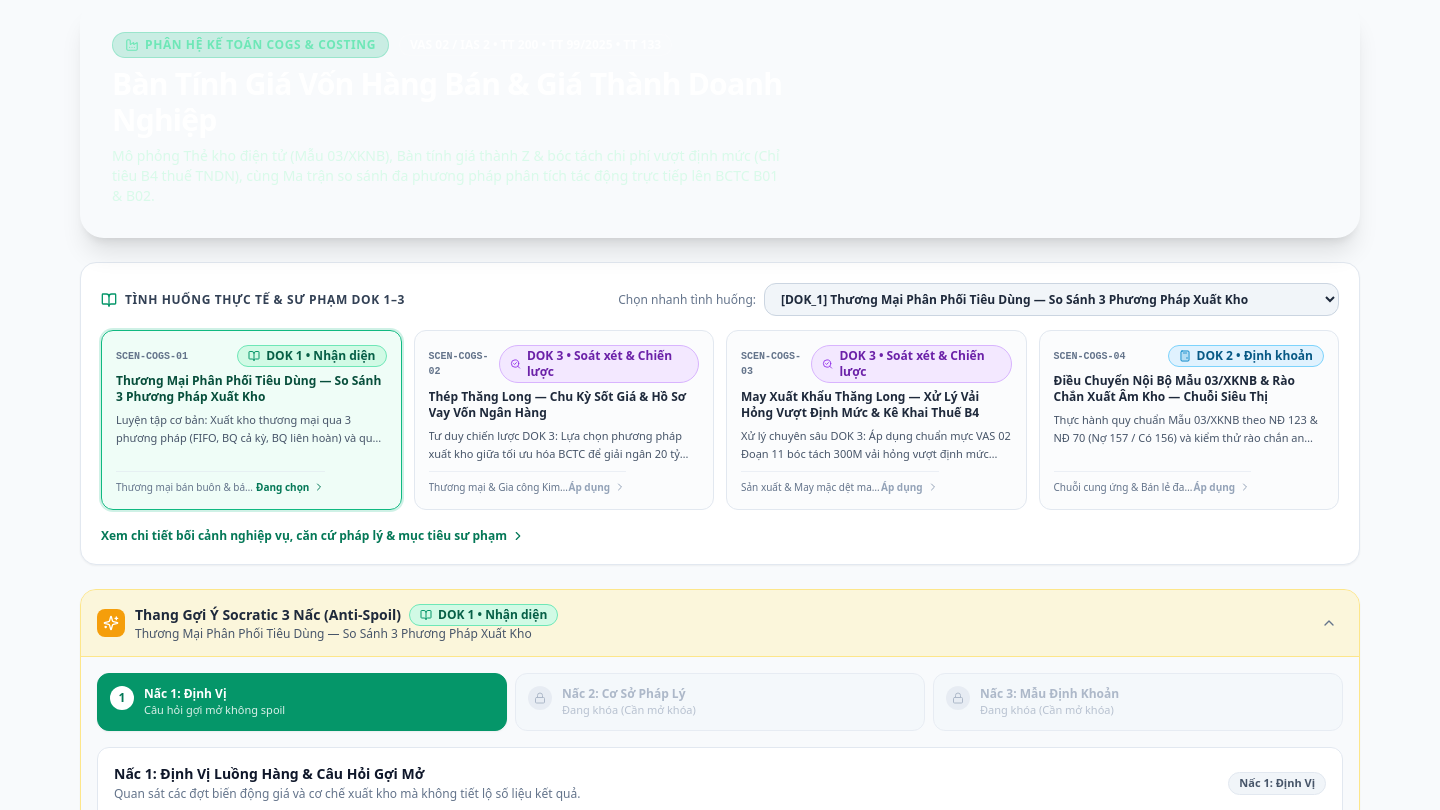
Test: COGS & Cost Accounting Workbench Container & Shell Integration (CogsWorkbench.tsx) › T5.4: Loads DOK 3 Scenario "May Xuất Khẩu Thăng Long" with abnormal waste and CIT B4 calculation
Note: Select Scenario 3 (May Xuất Khẩu Thăng Long DOK 3)
Click the button with test id "scenario-select-btn-scen-cogs-03": x=876, y=420 [726, 330, 1026, 510]
(page scrolled)
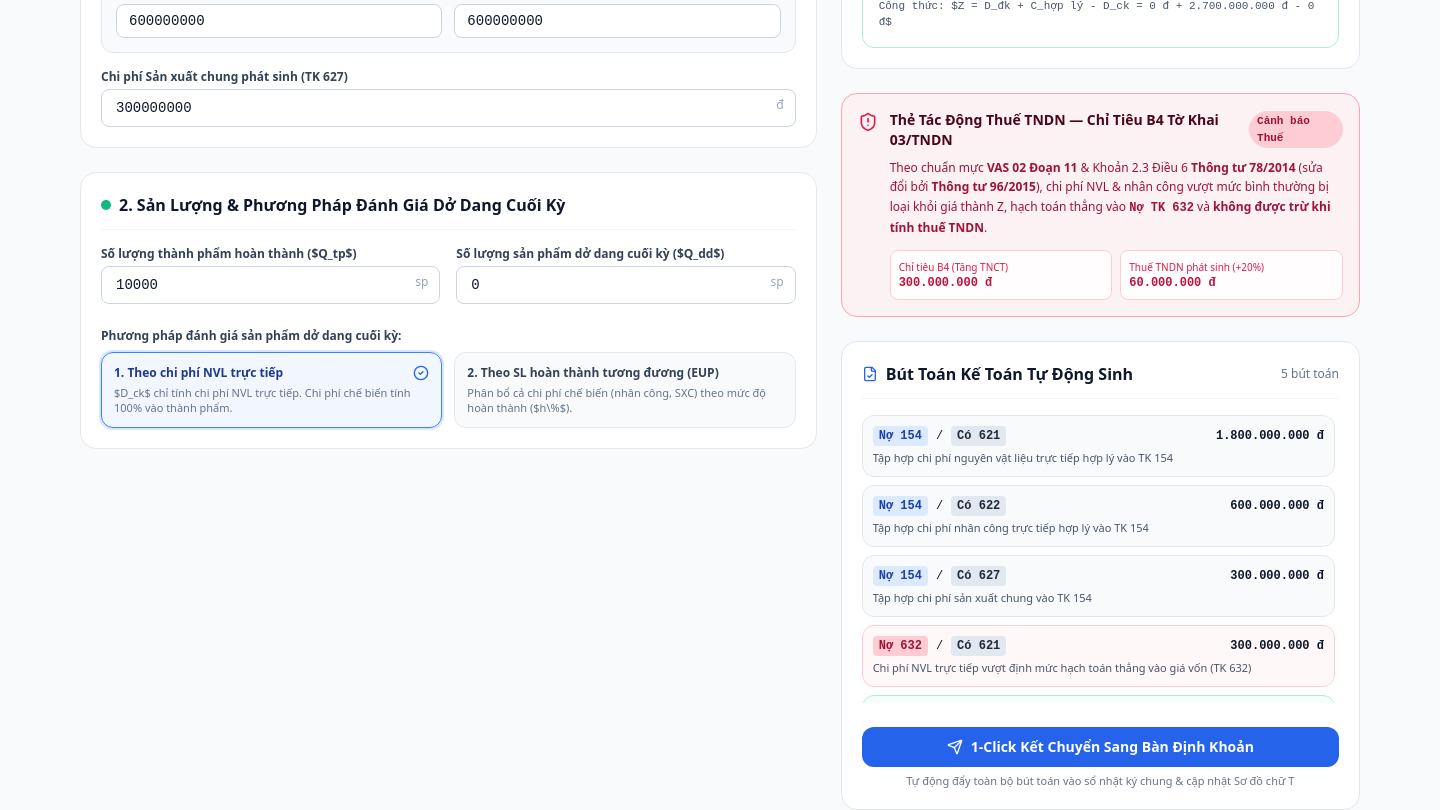
Now the text with test id "cit-tax-amount" shows "60.000.000", box [1129, 276, 1216, 290]
Now the text with test id "cit-b4-amount" shows "300.000.000", box [899, 276, 992, 290]
Now the element with test id "journal-entries-table" shows "Nợ 632", box [862, 415, 1339, 703]
